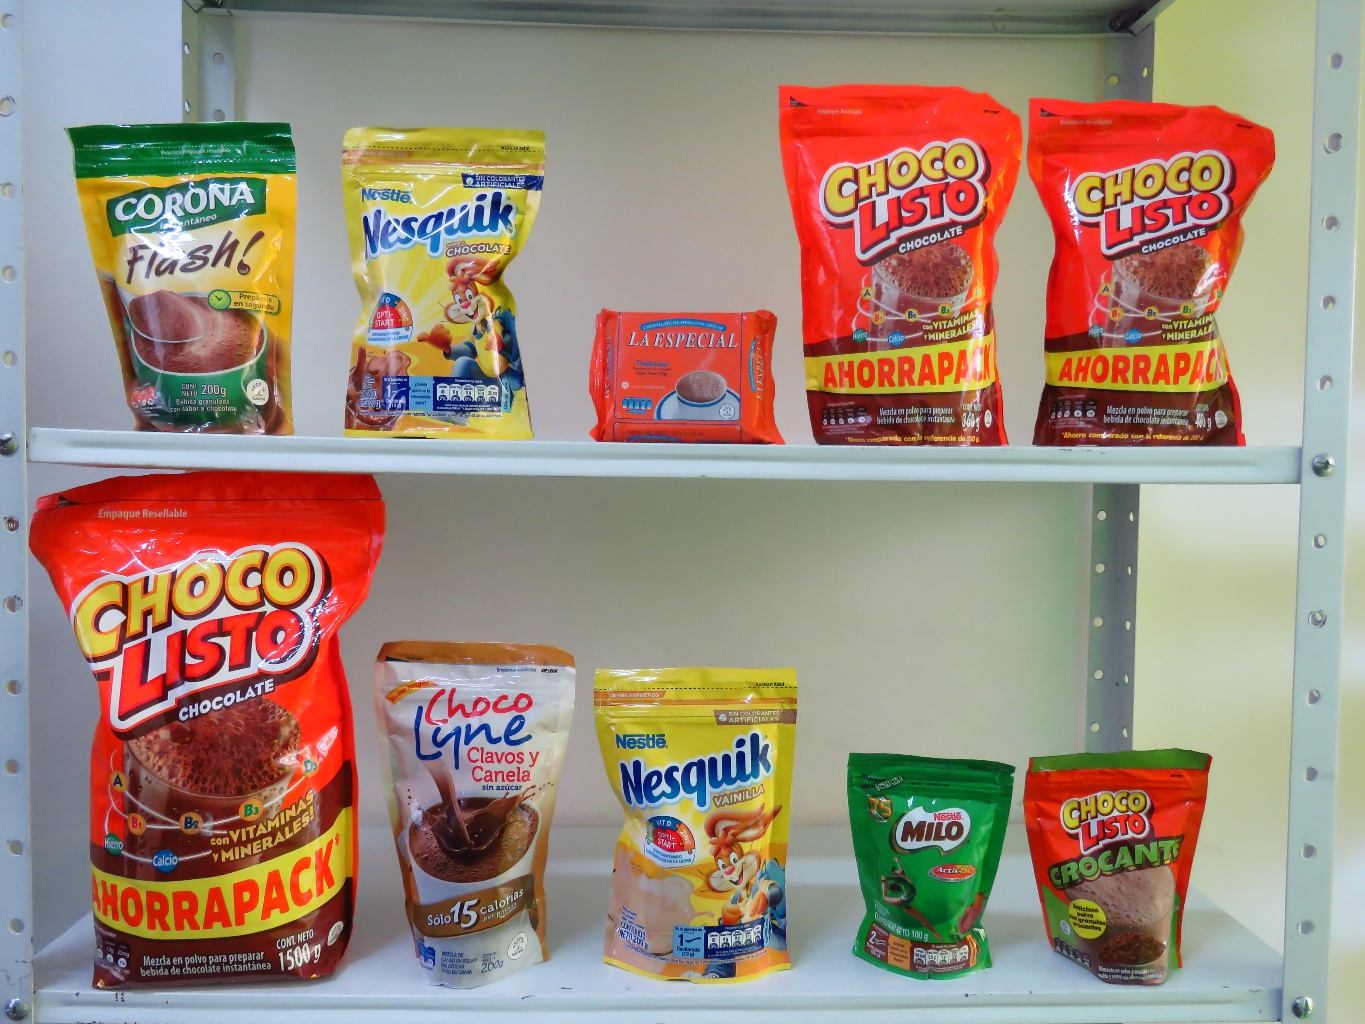COL0170102DYP10000: (1011, 725, 1229, 993)
COL0170103DYP1,500: (2, 442, 397, 1008)
COL0170103DYP36000: (760, 74, 1033, 446)
COL0170103DYP40000: (1024, 79, 1292, 463)
COL0170203DYP10000: (815, 719, 1022, 995)
COL0170303DYP20000: (323, 113, 567, 444)
COL0170306DYP20000: (586, 631, 831, 999)
